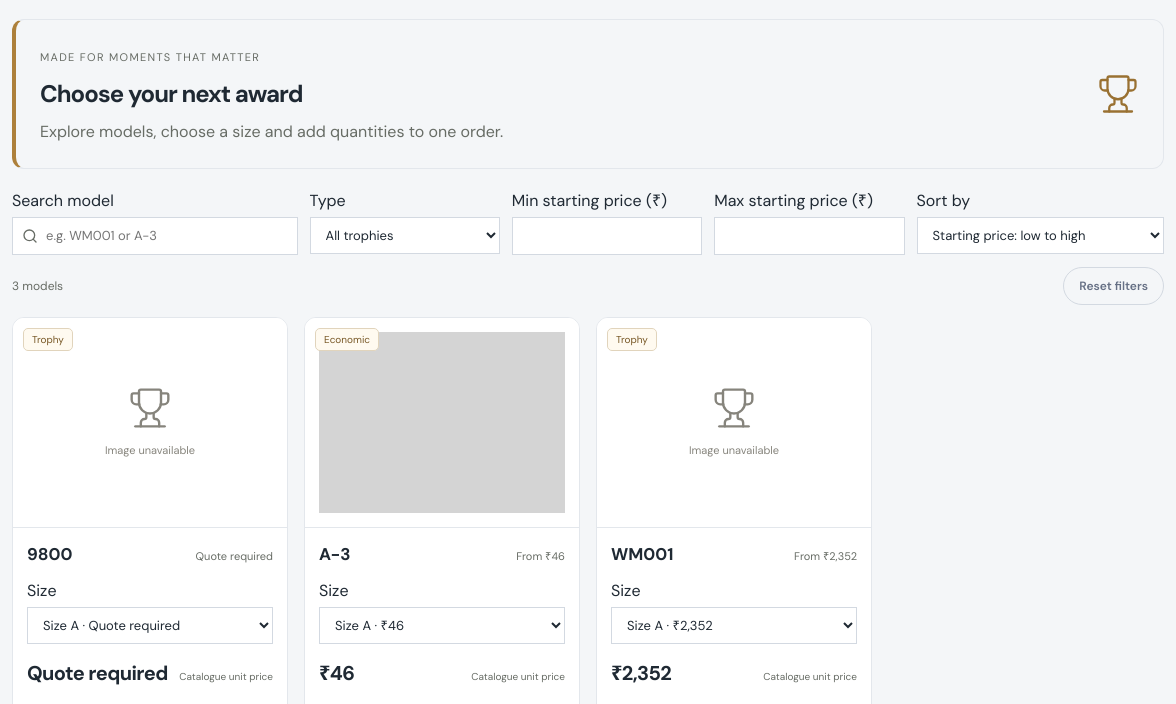
Test: Trophy catalogue › changes size prices and adds the exact variant and positive integer quantity
Select "Size B · ₹2,801" in the dropdown named "Size for WM001" at (734, 626), box [611, 607, 857, 644]
(page scrolled)
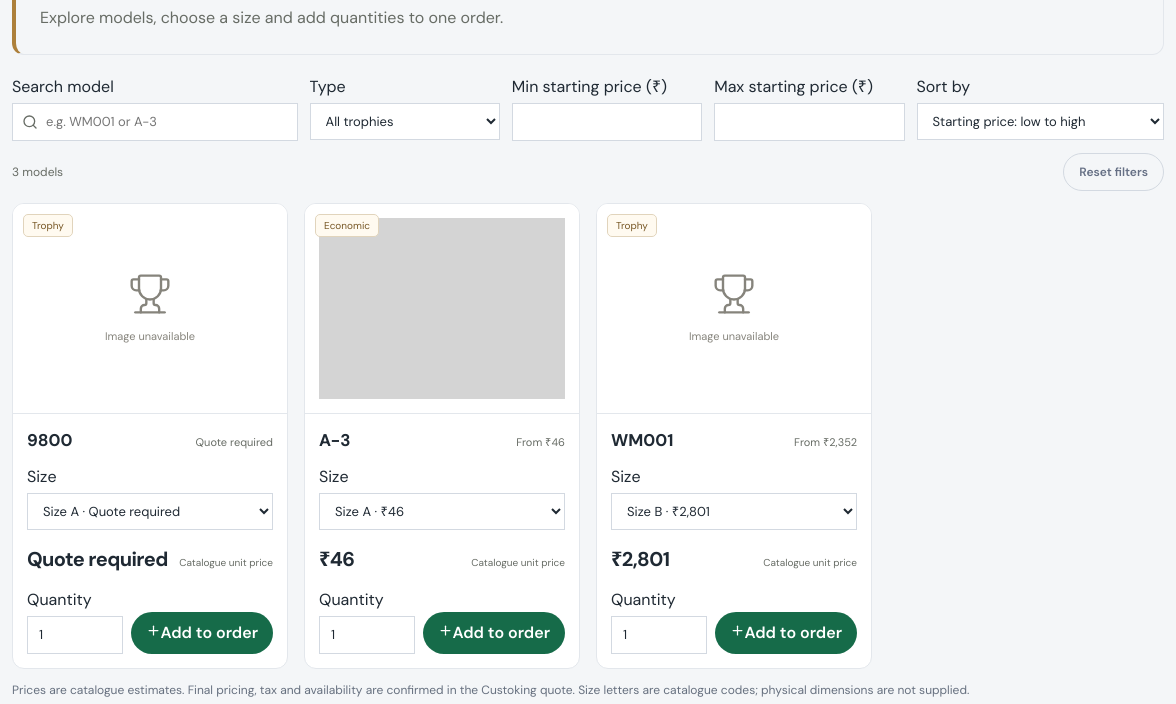
Now the text "₹2,801" is shown, box [611, 544, 669, 574]
Replace the text in the number field named "Quantity for WM001" with "3" at (659, 635), box [611, 616, 706, 654]
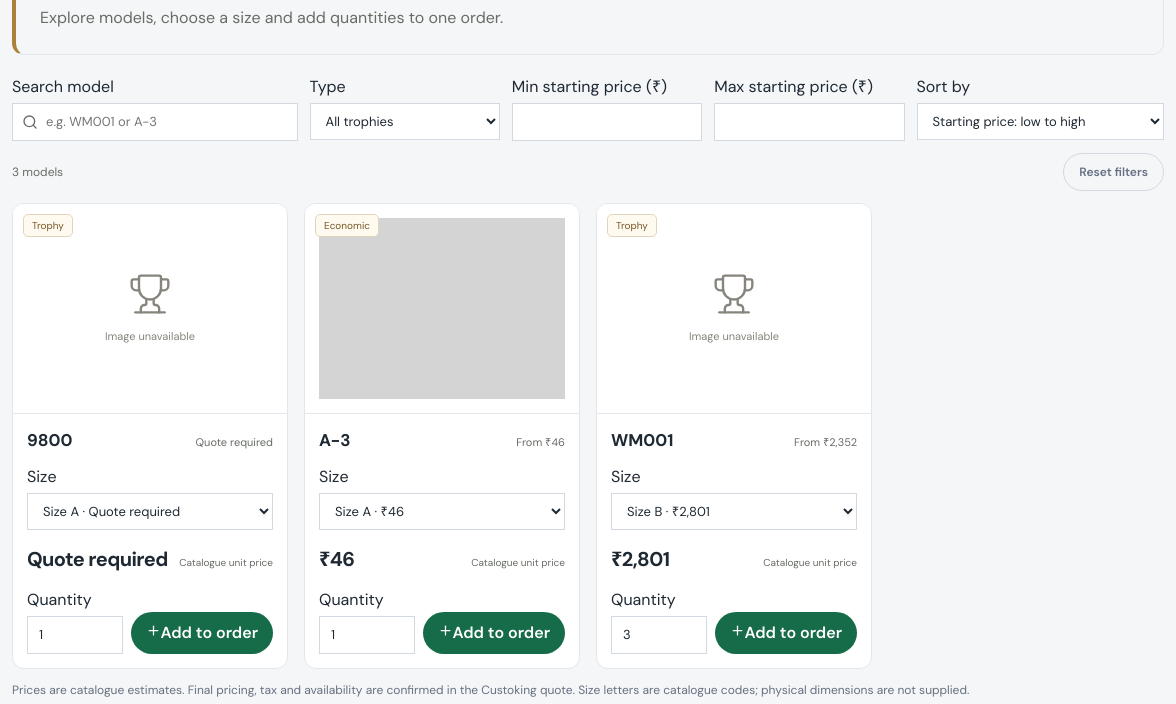
Click the button with aria-label "Add WM001 size B to order" at (786, 632), box [714, 612, 857, 654]
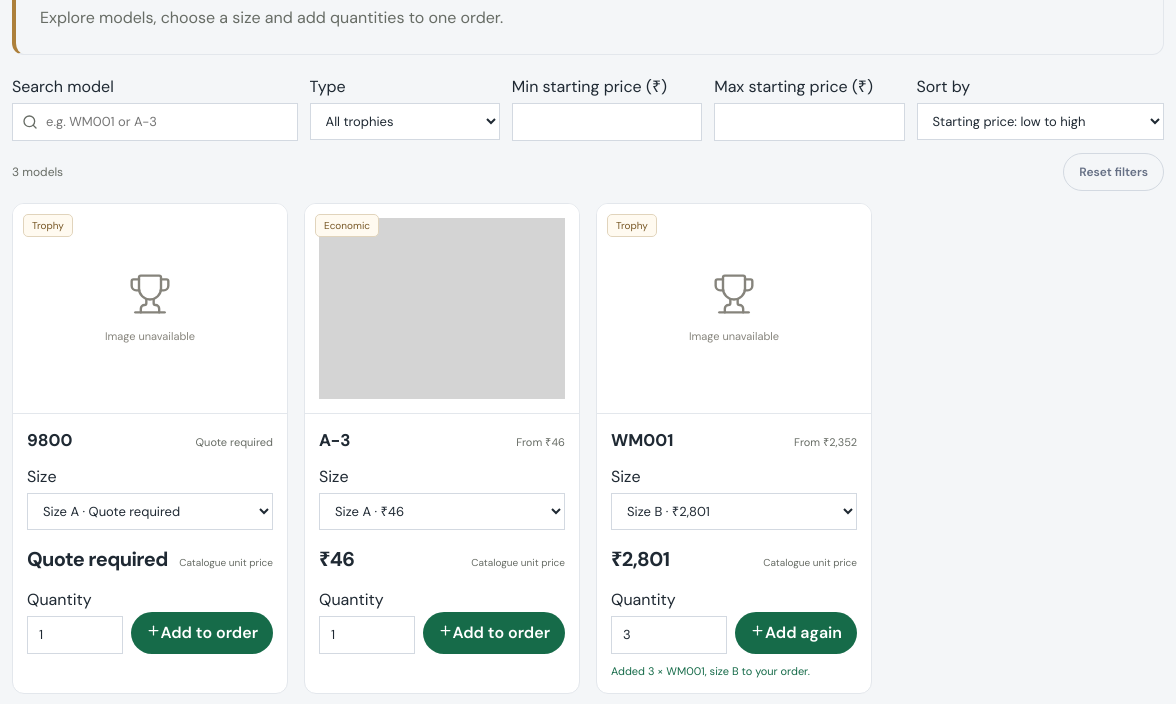
Replace the text in the number field named "Quantity for WM001" with "1.5" at (669, 635), box [611, 616, 727, 654]
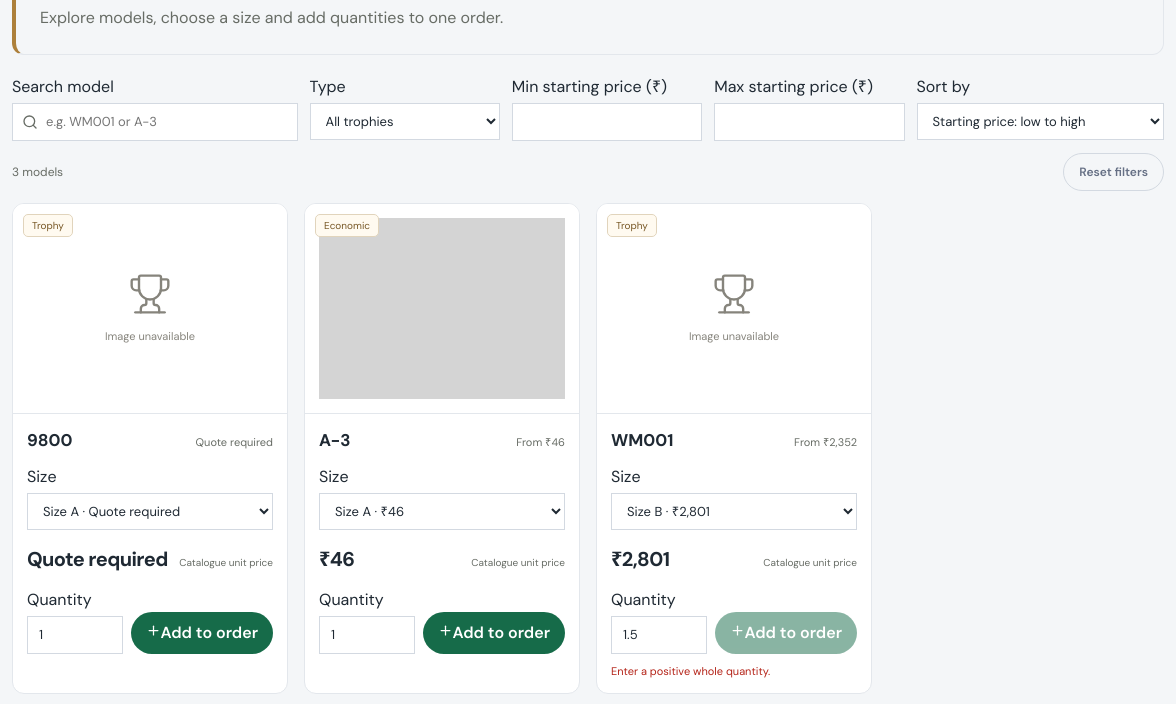
Now the button with aria-label "Add WM001 size B to order" is disabled, box [714, 612, 857, 654]
